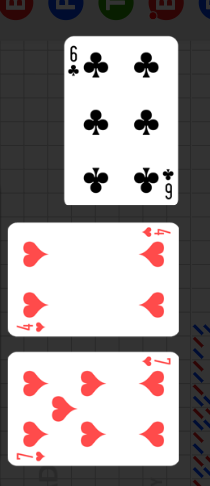6C: (161, 166, 175, 201), (67, 44, 81, 79)
7H: (15, 449, 47, 462)
